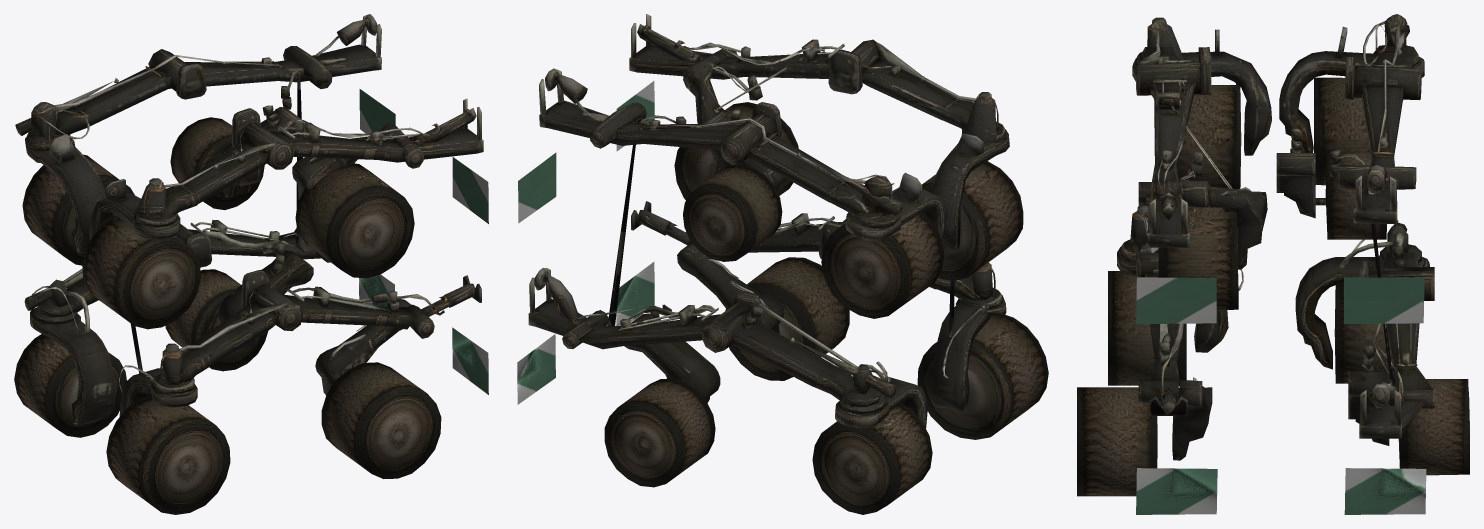
Rendered from 019ead4a-10ae-7dcf-a4b2-79824fc8e795.glb.
The picture shows the model from 3 angles, left to right: view 1: azimuth 30°, elevation 25°; view 2: azimuth 150°, elevation 25°; view 3: azimuth 270°, elevation 25°; orthographic projection. The views are drawn at different scales.
Parts seen in each view (by area): view 1: tripo_node_cec42e5d-7de1-4958-ab21-3b048028e12e; view 2: tripo_node_cec42e5d-7de1-4958-ab21-3b048028e12e; view 3: tripo_node_cec42e5d-7de1-4958-ab21-3b048028e12e.
Part boxes in pixels (left/top/right/bottom): tripo_node_cec42e5d-7de1-4958-ab21-3b048028e12e: left=14, top=14, right=488, bottom=514; tripo_node_cec42e5d-7de1-4958-ab21-3b048028e12e: left=517, top=14, right=1048, bottom=514; tripo_node_cec42e5d-7de1-4958-ab21-3b048028e12e: left=1077, top=14, right=1469, bottom=514.
Size of the model in its own units: 0.998 by 0.9238 by 0.8457.
1 material, 1 textured.
